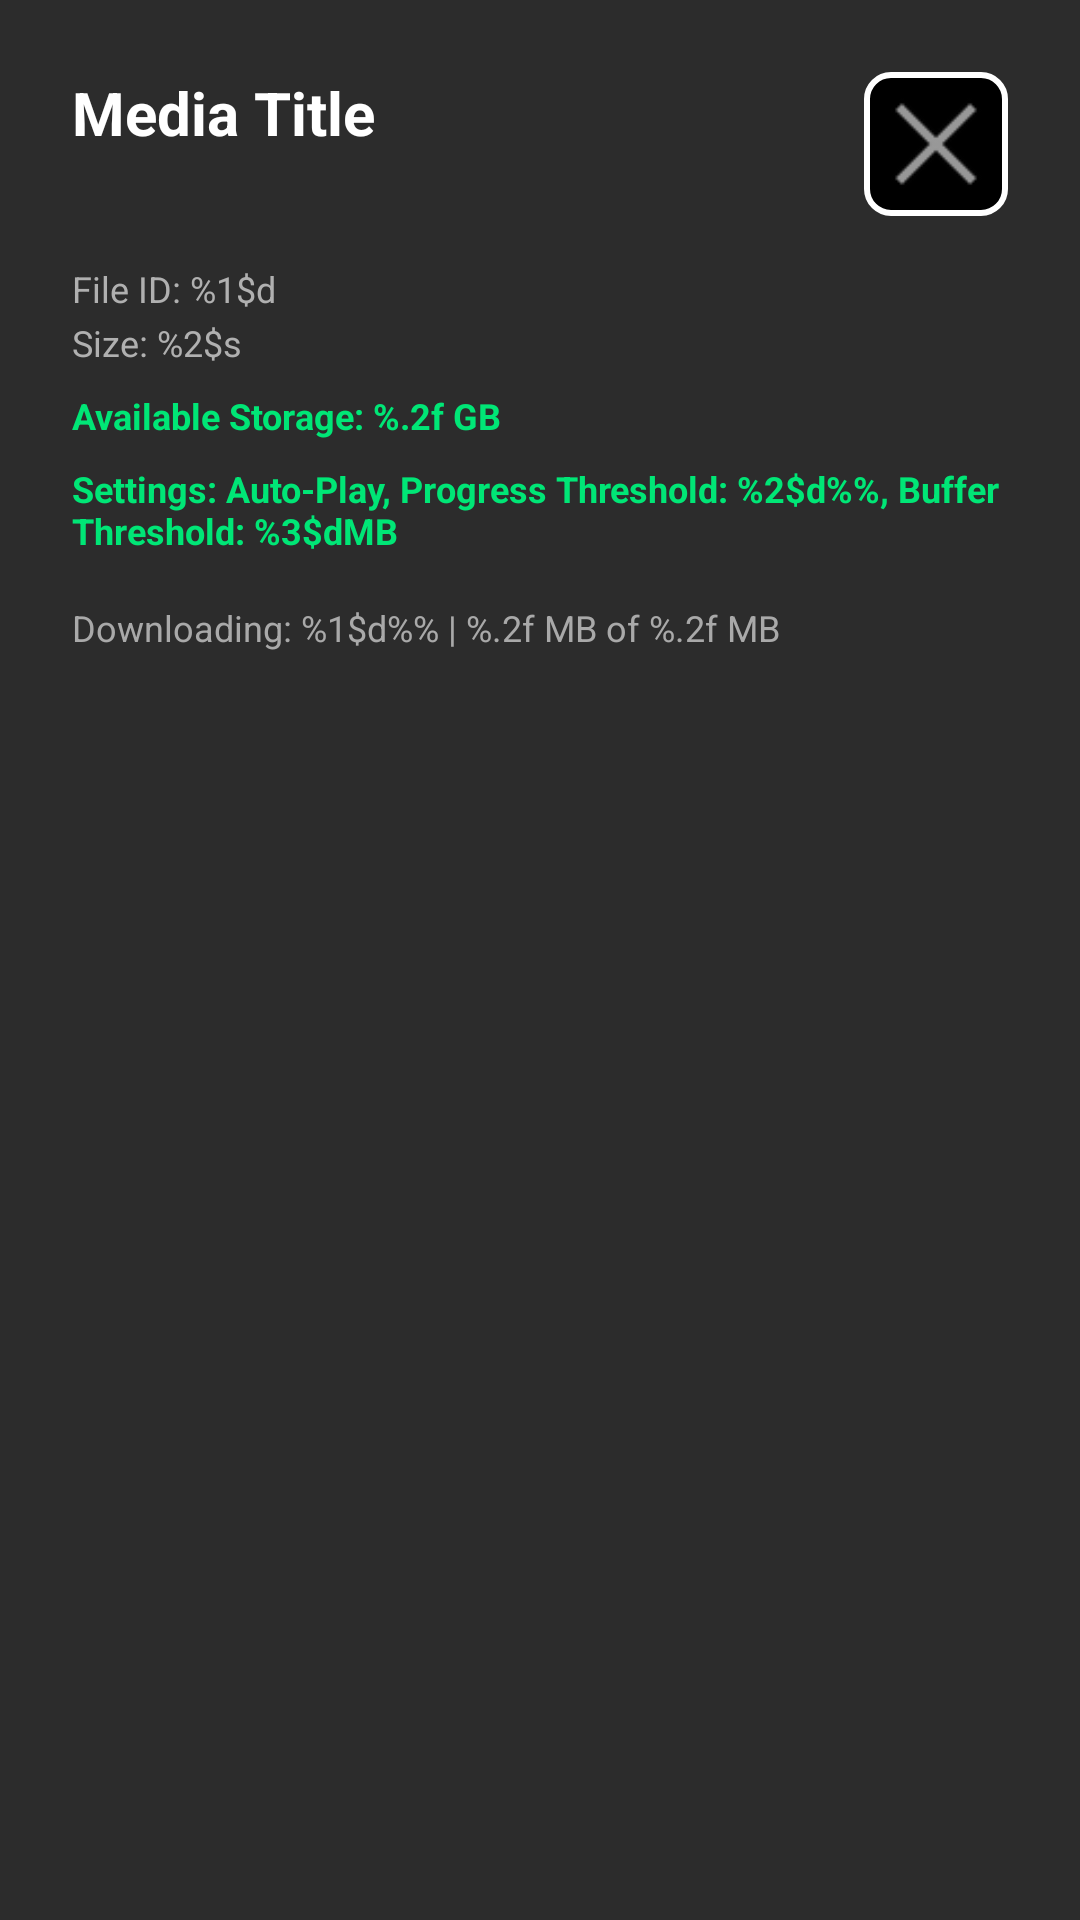

Where to tap for icons on this 1080 × 1920 app screen, as (x,y):
Close: (936,144)
